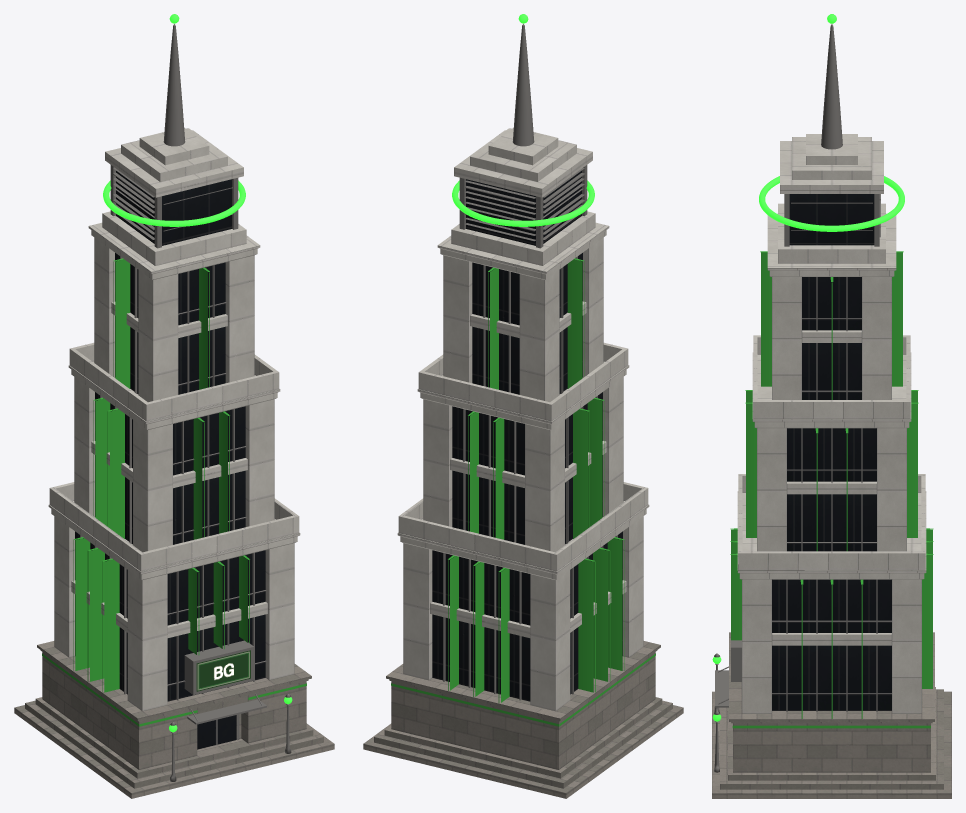
File: s05-biopharma-go.glb
3 views of the same model, side by side, from view 1: azimuth 30°, elevation 25°; view 2: azimuth 150°, elevation 25°; view 3: azimuth 270°, elevation 25° (orthographic). The views are drawn at different scales.
Visible parts, largest first — view 1: Landmark · BioPharma.Go (Series 5); view 2: Landmark · BioPharma.Go (Series 5); view 3: Landmark · BioPharma.Go (Series 5).
Part boxes in pixels (x1,y1,x2,y2): Landmark · BioPharma.Go (Series 5): (14, 14, 334, 798); Landmark · BioPharma.Go (Series 5): (363, 14, 683, 798); Landmark · BioPharma.Go (Series 5): (712, 14, 951, 798).
Bounding box in the file's own units: 12 × 40.5 × 12.
7 materials, 4 textured.
